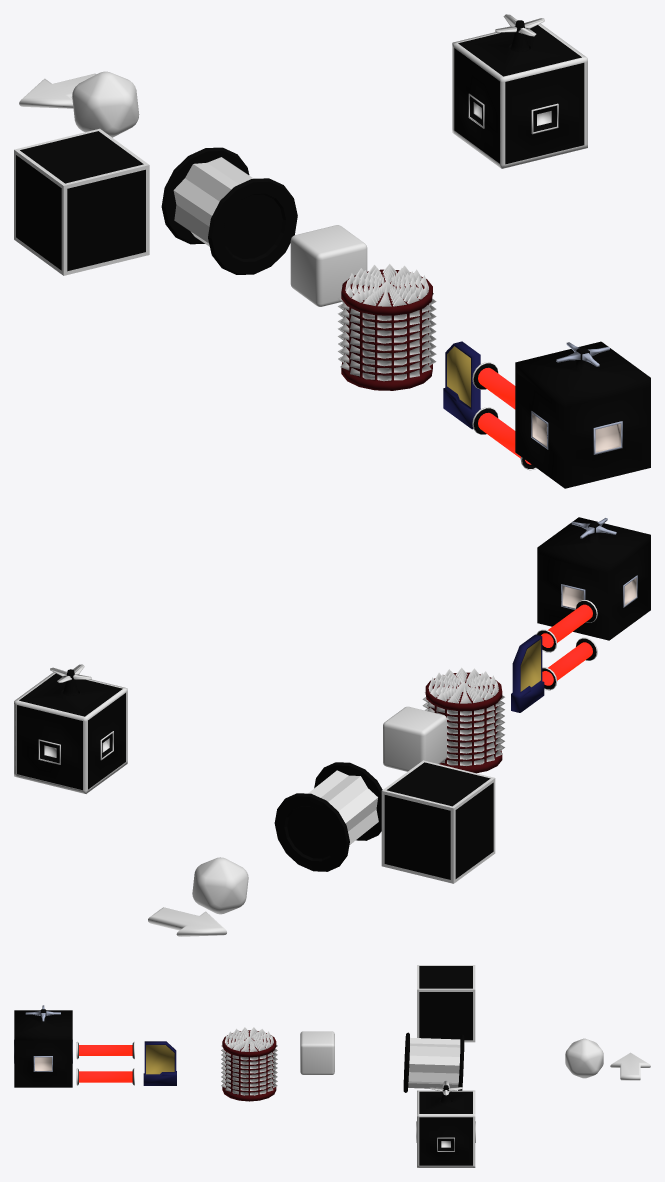
File: ereaser.glb
The picture shows the model from 3 angles, top to bottom: view 1: azimuth 30°, elevation 25°; view 2: azimuth 150°, elevation 25°; view 3: azimuth 270°, elevation 25°; orthographic projection. The views are drawn at different scales.
Visible parts, largest first — view 1: Cube, Cone, elevator_bottom, spikes, Cube.003, Cube.002, elevator, Cube.001, Icosphere, key, Cube.005, Plane (+1 smaller); view 2: Cube, Cone, Cube.003, elevator_bottom, spikes, Cube.002, elevator, Cube.001, Icosphere, Cube.005, key, Plane; view 3: Cube, spikes, Cone, elevator_bottom, Cube.003, Cube.002, elevator, Cube.001, key, Cube.005, Icosphere, Plane.
Boxes of the visible parts, x1,y1,x2,y2 form: Cube: [14, 128, 149, 275]; Cone: [161, 147, 297, 274]; elevator_bottom: [515, 372, 650, 488]; spikes: [338, 264, 436, 390]; Cube.003: [452, 57, 587, 168]; Cube.002: [452, 23, 587, 92]; elevator: [515, 341, 650, 407]; Cube.001: [290, 225, 367, 306]; Icosphere: [72, 71, 139, 137]; key: [443, 341, 480, 429]; Cube.005: [472, 362, 536, 470]; Plane: [19, 73, 96, 108]; Cube: [381, 760, 495, 883]; Cone: [274, 762, 382, 871]; Cube.003: [14, 700, 127, 793]; elevator_bottom: [537, 543, 650, 640]; spikes: [422, 667, 504, 773]; Cube.002: [14, 672, 127, 730]; elevator: [537, 517, 650, 572]; Cube.001: [383, 706, 446, 771]; Icosphere: [192, 857, 248, 914]; Cube.005: [536, 600, 597, 690]; key: [511, 634, 544, 712]; Plane: [148, 907, 226, 936]; Cube: [417, 965, 475, 1042]; spikes: [221, 1027, 277, 1101]; Cone: [403, 1032, 464, 1092]; elevator_bottom: [14, 1040, 72, 1087]; Cube.003: [416, 1121, 475, 1167]; Cube.002: [417, 1090, 475, 1123]; elevator: [14, 1010, 72, 1040]; Cube.001: [300, 1031, 334, 1074]; key: [143, 1041, 176, 1085]; Cube.005: [76, 1041, 134, 1085]; Icosphere: [565, 1038, 603, 1078]; Plane: [610, 1052, 650, 1080].
Bounding box in the file's own units: 12.21 × 3.49 × 21.88.
